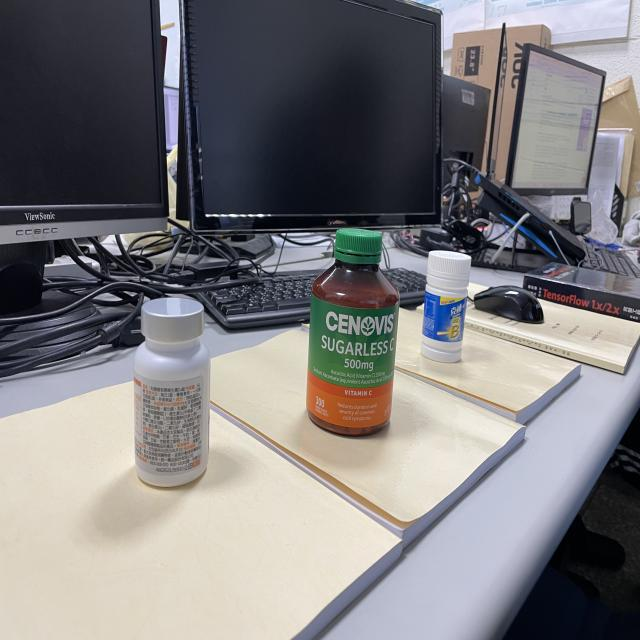Medicine-Jar: (297, 214, 403, 435), (120, 296, 220, 491), (419, 244, 471, 362)
